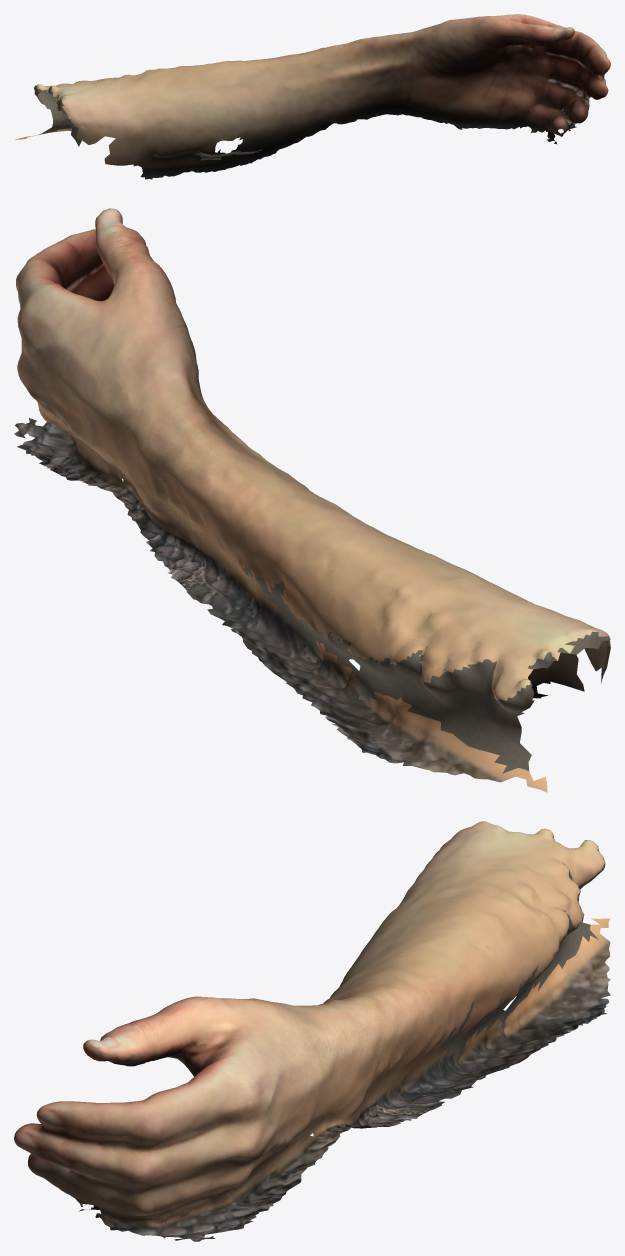
The model's file is critter1_anim.glb.
3 views of the same model, one above another, from view 1: azimuth 30°, elevation 25°; view 2: azimuth 150°, elevation 25°; view 3: azimuth 270°, elevation 25° (orthographic). The views are drawn at different scales.
Visible parts, largest first — view 1: model; view 2: model; view 3: model.
Part boxes in pixels (left/top/right/bottom): model: left=15, top=14, right=610, bottom=179; model: left=14, top=208, right=610, bottom=792; model: left=14, top=821, right=610, bottom=1241.
Bounding box in the file's own units: 24.87 × 7.33 × 17.24.
Materials: 2 (2 with a texture image).
